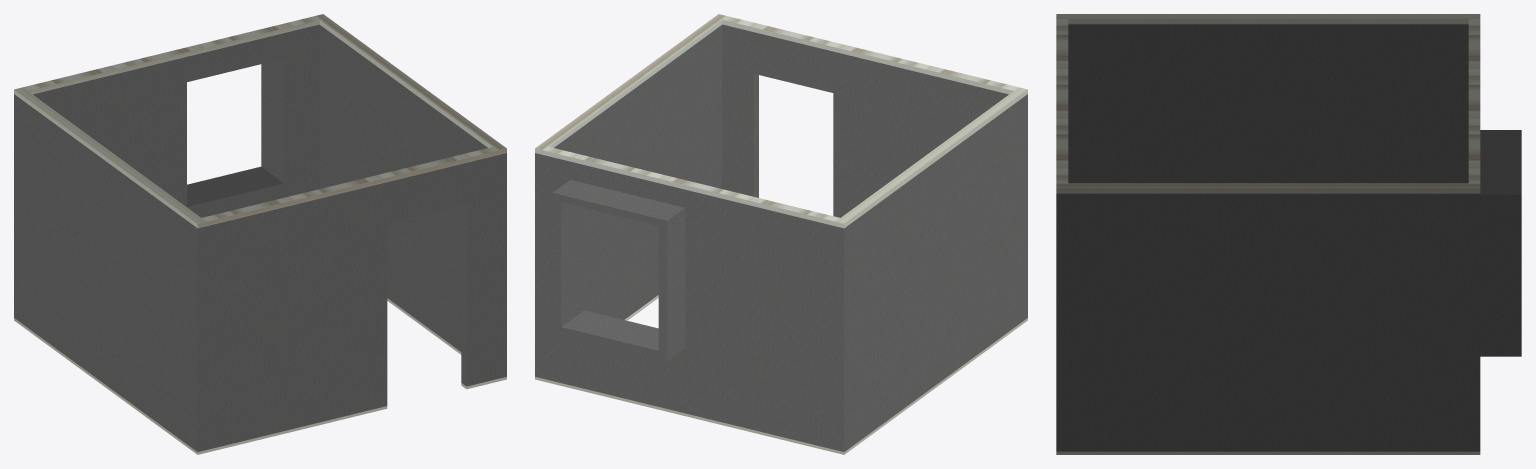
File: FP302:StandardWallSize_2a75ff28.obj
3 views of the same model, side by side, from view 1: azimuth 30°, elevation 25°; view 2: azimuth 150°, elevation 25°; view 3: azimuth 270°, elevation 25° (orthographic). The views are drawn at different scales.
Visible parts, largest first — view 1: FP302:StandardWallSize_2a75ff28; view 2: FP302:StandardWallSize_2a75ff28; view 3: FP302:StandardWallSize_2a75ff28.
Part boxes in pixels (x1=…): FP302:StandardWallSize_2a75ff28: x1=14, y1=14, x2=506, y2=454; FP302:StandardWallSize_2a75ff28: x1=535, y1=14, x2=1027, y2=454; FP302:StandardWallSize_2a75ff28: x1=1056, y1=14, x2=1521, y2=454.
Bounding box in the file's own units: 3.5 × 2.5 × 3.95.
